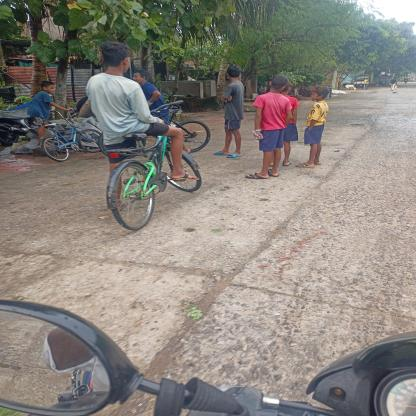bicycle: (89, 123, 213, 228)
